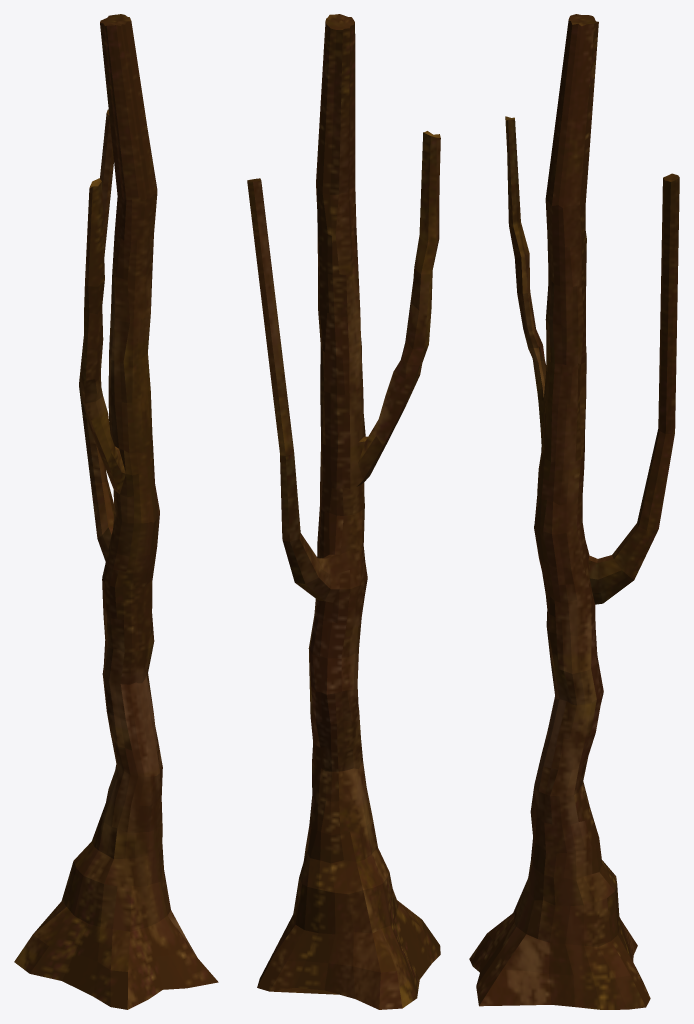
File: SM_Tree9.fbx
The picture shows the model from 3 angles, left to right: view 1: azimuth 30°, elevation 25°; view 2: azimuth 150°, elevation 25°; view 3: azimuth 270°, elevation 25°; orthographic projection. The views are drawn at different scales.
Parts seen in each view (by area): view 1: Cylinder.008; view 2: Cylinder.008; view 3: Cylinder.008.
Boxes of the visible parts, x1,y1,x2,y2 form: Cylinder.008: [14, 14, 218, 1009]; Cylinder.008: [247, 14, 440, 1009]; Cylinder.008: [469, 14, 679, 1009].
Bounding box in the file's own units: 278 × 1764 × 349.
